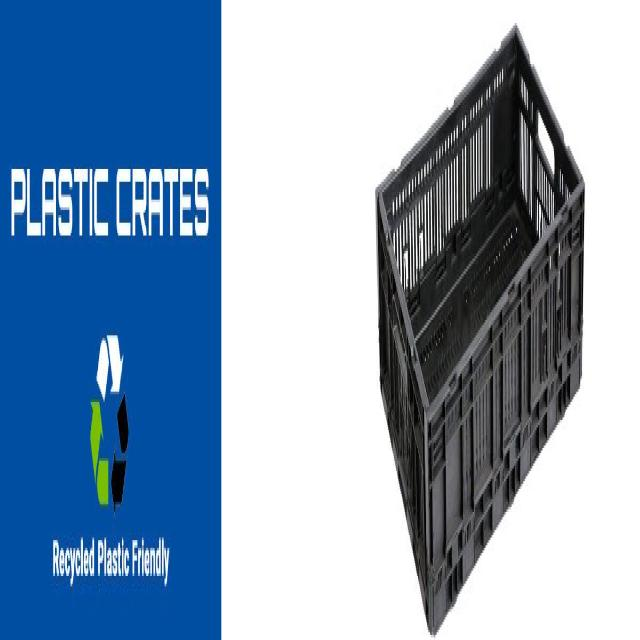basket: (373, 22, 587, 630)
